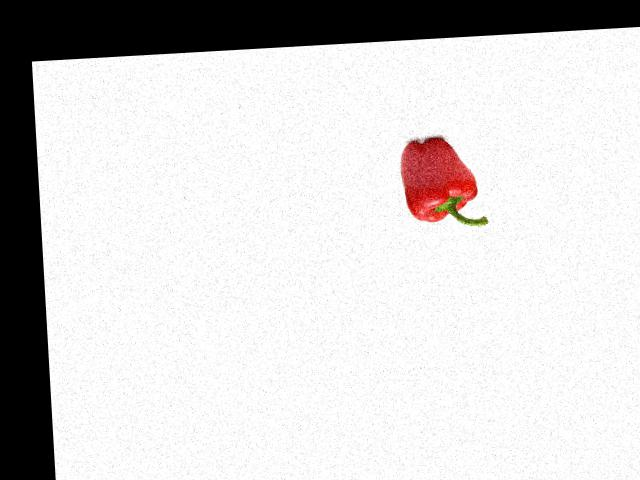bell_pepper: (394, 128, 491, 235)
